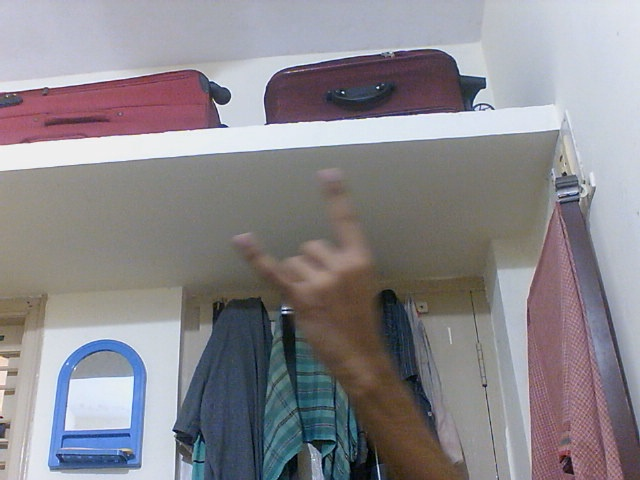hand: (231, 165, 389, 392)
